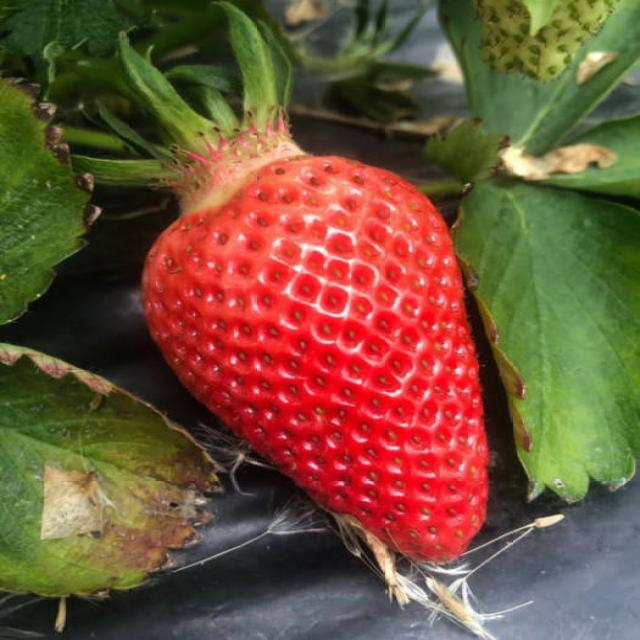Healthy Fruit: (141, 153, 489, 558)
